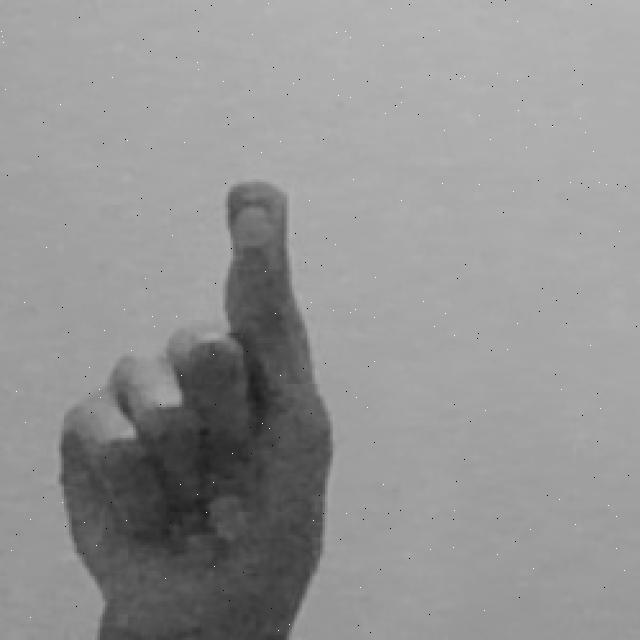T: (49, 176, 338, 640)
